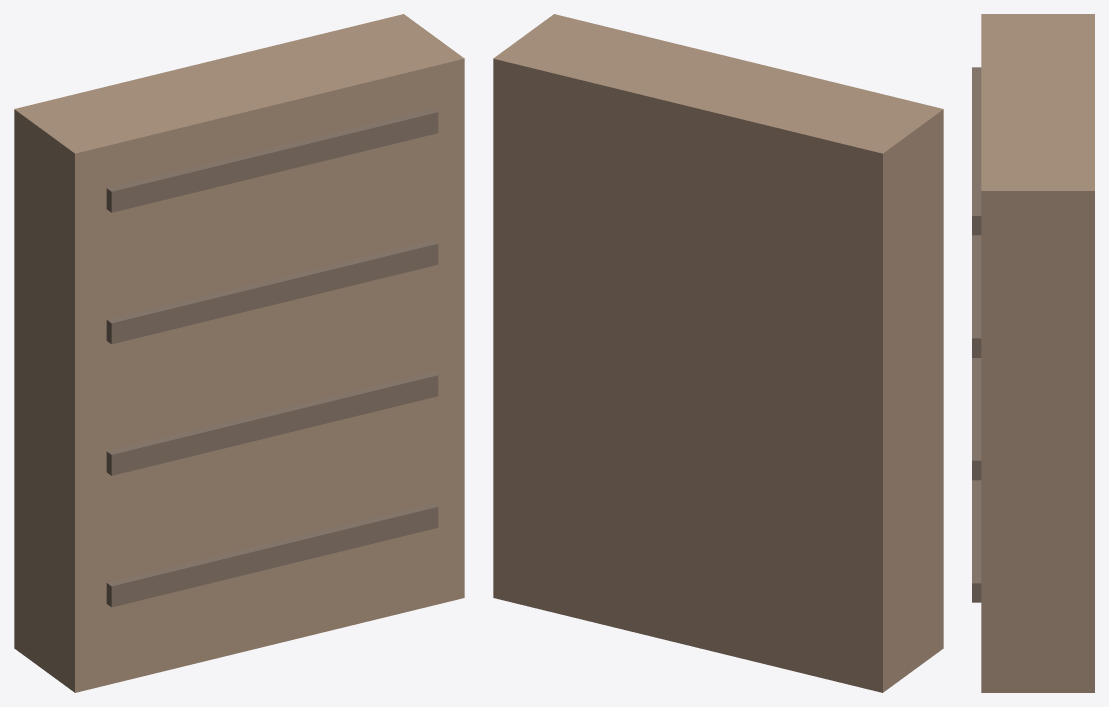
File: bookshelf_basic.glb
3 renders of one model, left to right at view 1: azimuth 30°, elevation 25°; view 2: azimuth 150°, elevation 25°; view 3: azimuth 270°, elevation 25°, orthographic. The views are drawn at different scales.
Parts seen in each view (by area): view 1: part_00, part_01, part_03, part_04, part_02; view 2: part_00; view 3: part_00, part_04, part_01, part_03, part_02.
Part boxes in pixels (x1,y1,x2,y2): part_00: (14, 14, 464, 692); part_01: (106, 503, 438, 607); part_03: (106, 240, 438, 344); part_04: (106, 108, 438, 212); part_02: (106, 371, 438, 475); part_00: (493, 14, 943, 692); part_00: (981, 14, 1094, 692); part_04: (972, 67, 981, 235); part_01: (972, 480, 981, 602); part_03: (972, 235, 981, 357); part_02: (972, 358, 981, 480).
Bounding box in the file's own units: 1.55 × 2.05 × 0.455.
